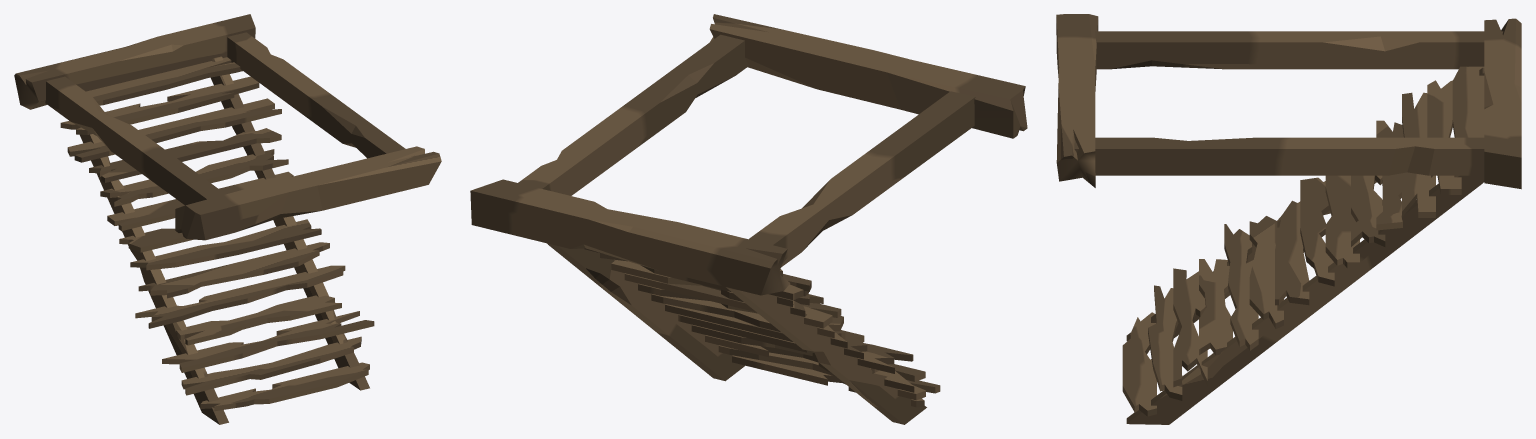
Rendered from SM_Veh_Ship_Stairs_02.fbx.
3 renders of one model, left to right at view 1: azimuth 30°, elevation 25°; view 2: azimuth 150°, elevation 25°; view 3: azimuth 270°, elevation 25°, orthographic. The views are drawn at different scales.
Parts seen in each view (by area): view 1: SM_Veh_Ship_Stairs_02; view 2: SM_Veh_Ship_Stairs_02; view 3: SM_Veh_Ship_Stairs_02.
Part boxes in pixels (bbox=[...]): SM_Veh_Ship_Stairs_02: bbox=[14, 14, 441, 424]; SM_Veh_Ship_Stairs_02: bbox=[470, 14, 1027, 424]; SM_Veh_Ship_Stairs_02: bbox=[1056, 14, 1521, 424].
Bounding box in the file's own units: 345 × 320 × 460.
